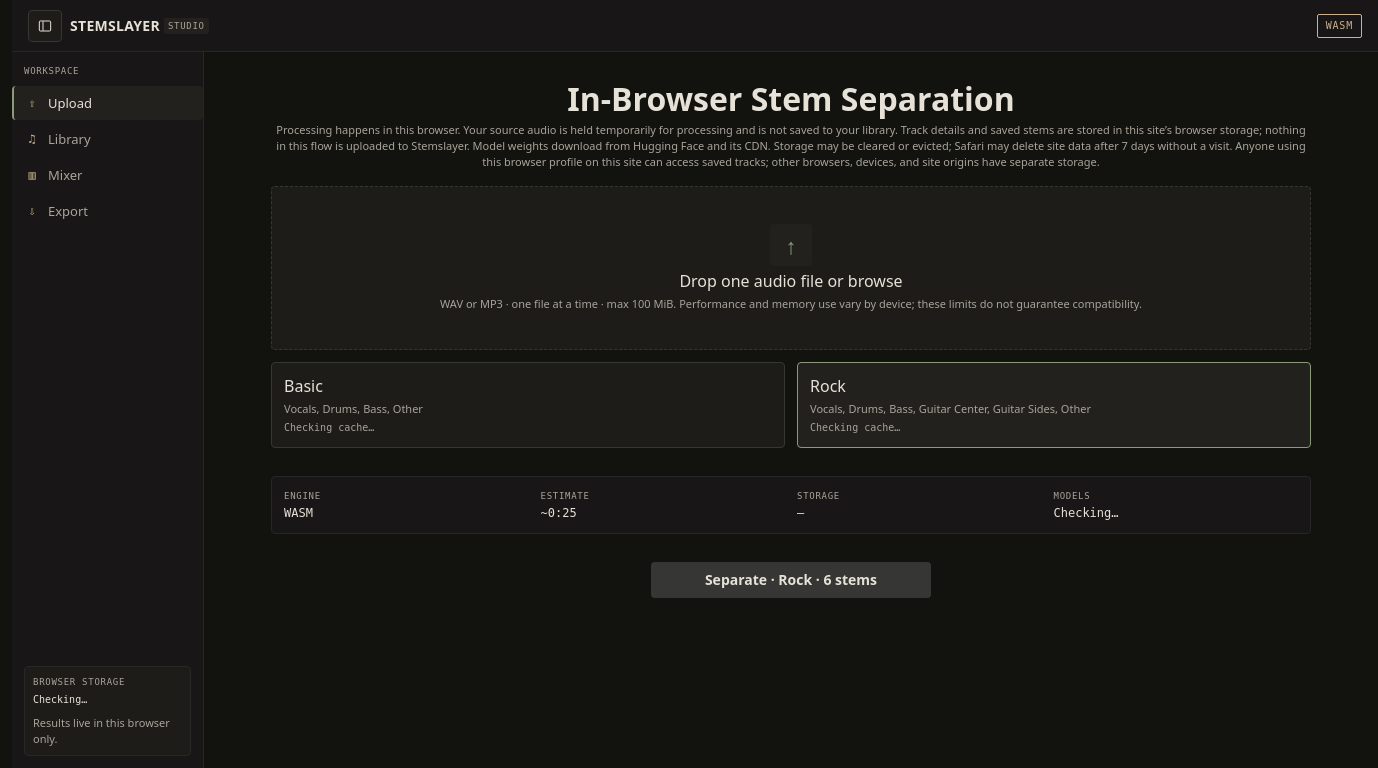
navigating to Library renders the real Library page, not a placeholder
The image size is (1378, 768).
Click the button with class "nav-item" showing "Library": (108, 139) [12, 122, 203, 156]
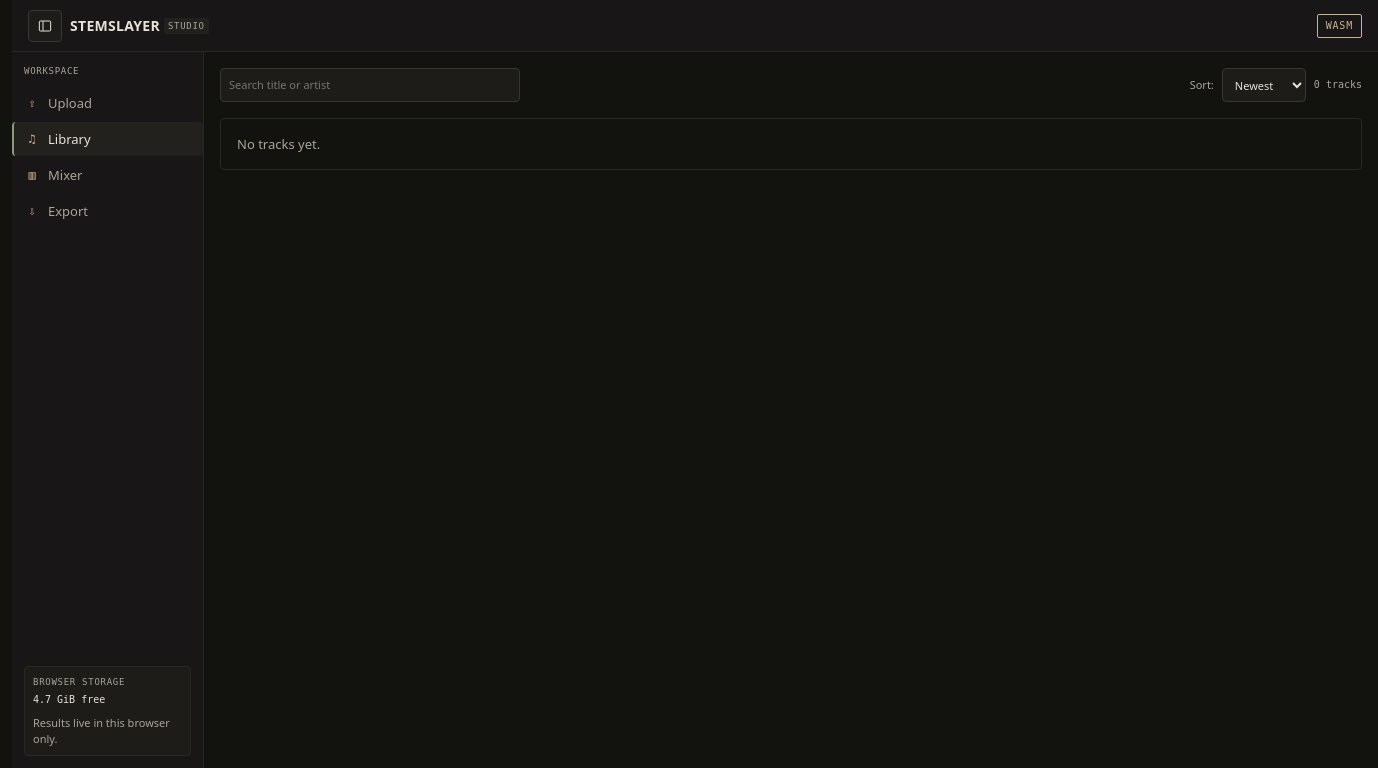
Expected: the button with class "drop-zone" is gone
Expected: the search field with class "library-search" is shown, [220, 68, 520, 102]
Expected: the message with class "library-empty" reads "No tracks yet.", [237, 135, 320, 153]
